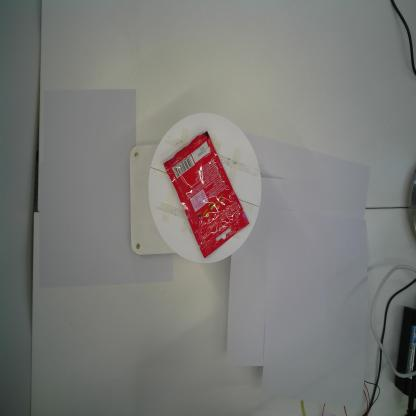Candy: (162, 129, 250, 260)
